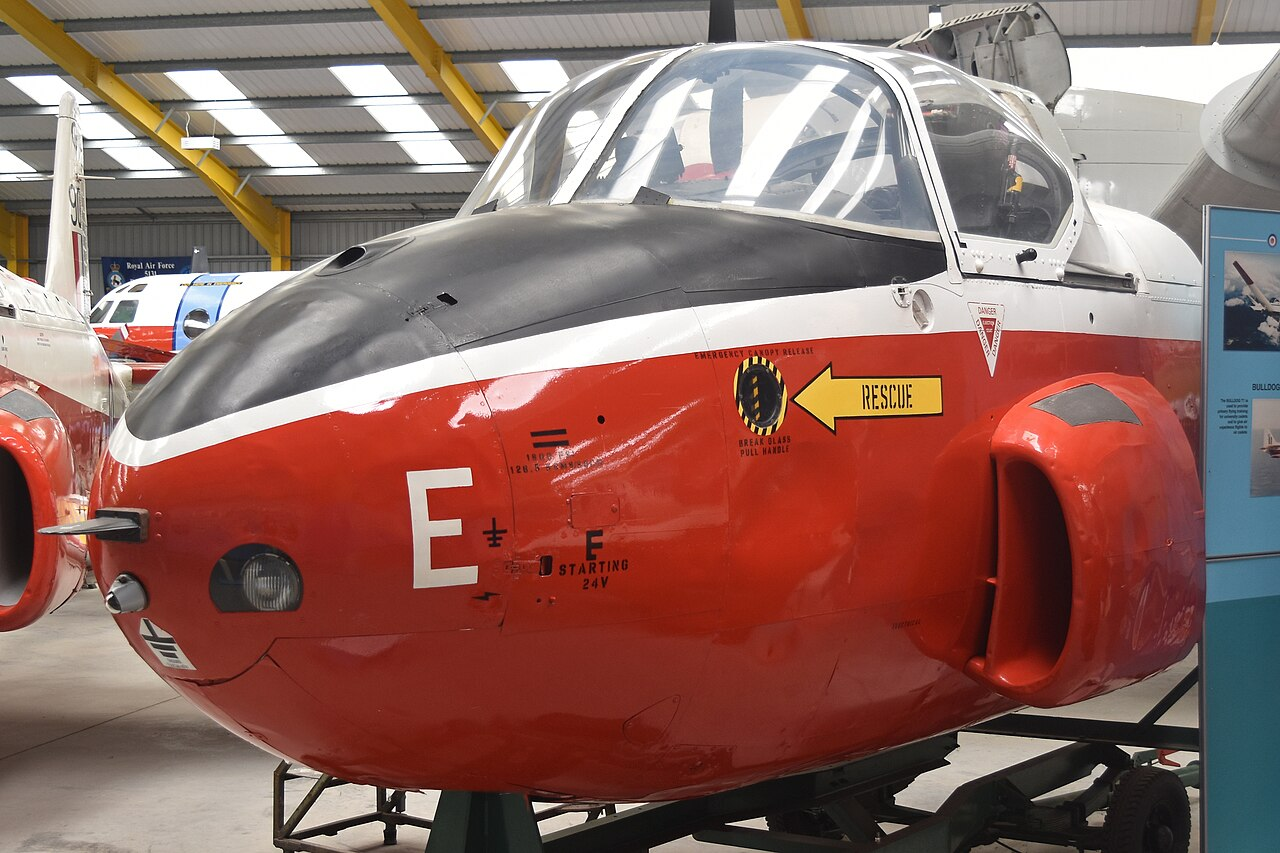aircraft: (35, 41, 1206, 804)
